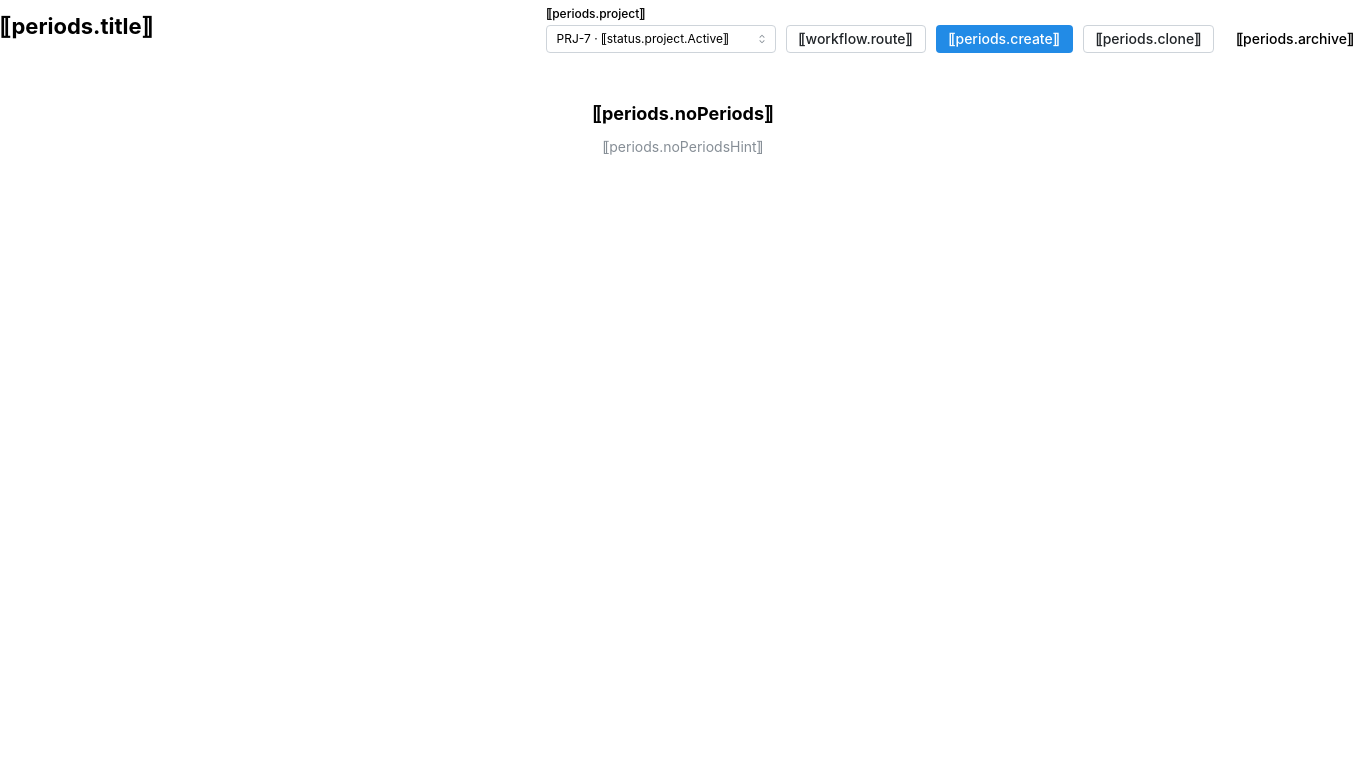
Test: PeriodsPage: підтвердження архівації (Q-287) › клік «Архівувати» БЕЗ підтвердження не надсилає запит
Click the button "⟦periods.archive⟧": (1295, 39) [1224,25,1365,53]
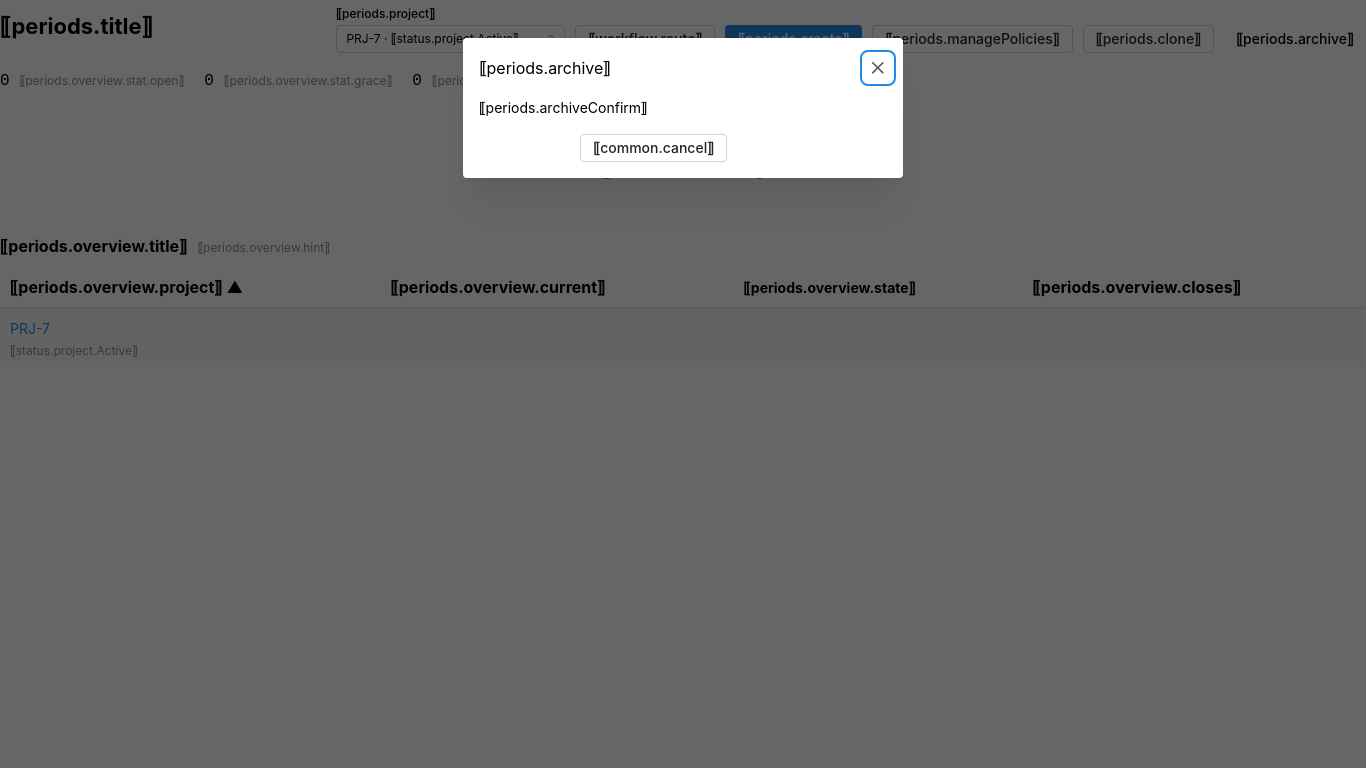
Expected: the button "⟦common.cancel⟧" is shown, [580,135,727,163]
